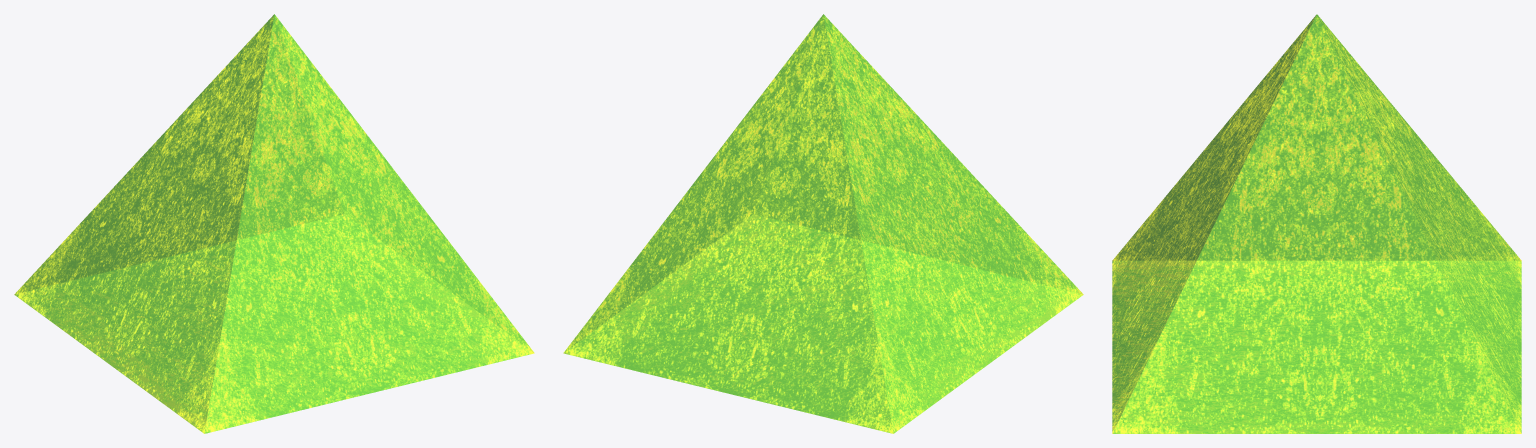
Rendered from portal.glb.
3 renders of one model, left to right at view 1: azimuth 30°, elevation 25°; view 2: azimuth 150°, elevation 25°; view 3: azimuth 270°, elevation 25°, orthographic. The views are drawn at different scales.
Parts seen in each view (by area): view 1: Pyramid001; view 2: Pyramid001; view 3: Pyramid001.
Boxes of the visible parts, x1=… form: Pyramid001: x1=14, y1=14, x2=534, y2=433; Pyramid001: x1=563, y1=14, x2=1083, y2=433; Pyramid001: x1=1112, y1=14, x2=1521, y2=433.
Bounding box in the file's own units: 6.68 × 5.99 × 6.66.
Materials: 1 (1 with a texture image).
